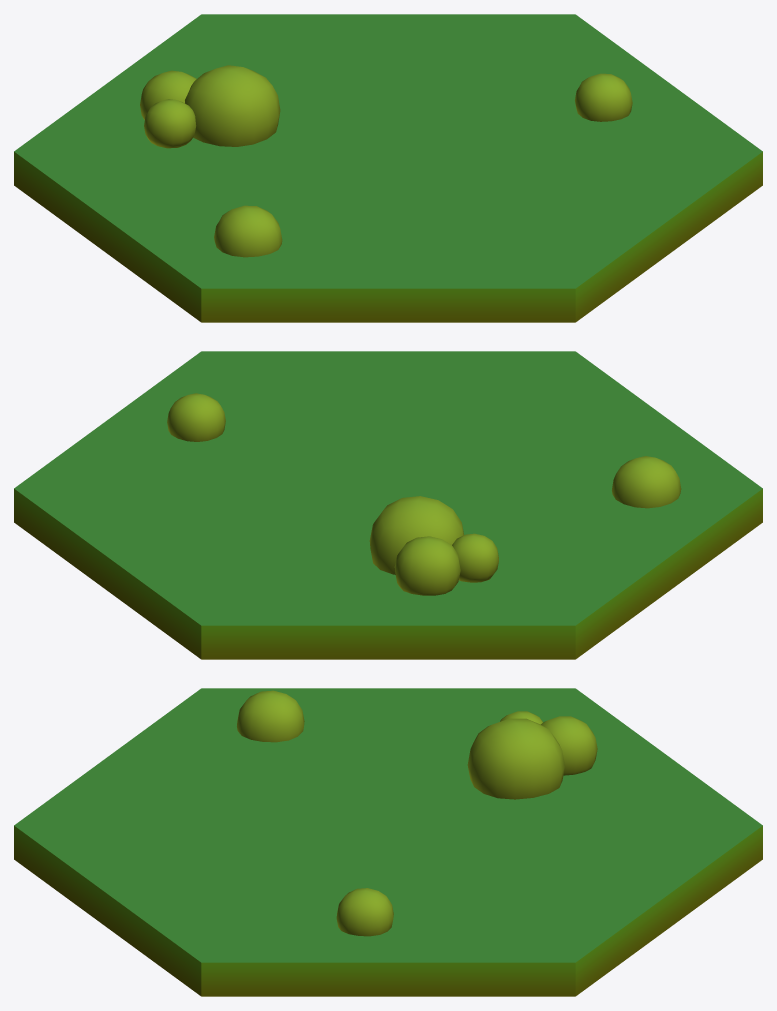
Rendered from hex3.fbx.
3 renders of one model, top to bottom at view 1: azimuth 30°, elevation 25°; view 2: azimuth 150°, elevation 25°; view 3: azimuth 270°, elevation 25°, orthographic.
Parts seen in each view (by area): view 1: hex_grass; view 2: hex_grass; view 3: hex_grass.
Boxes of the visible parts, x1,y1,x2,y2 form: hex_grass: (14, 14, 762, 322); hex_grass: (14, 351, 762, 659); hex_grass: (14, 688, 762, 996).
Bounding box in the file's own units: 173 × 26.82 × 200.
